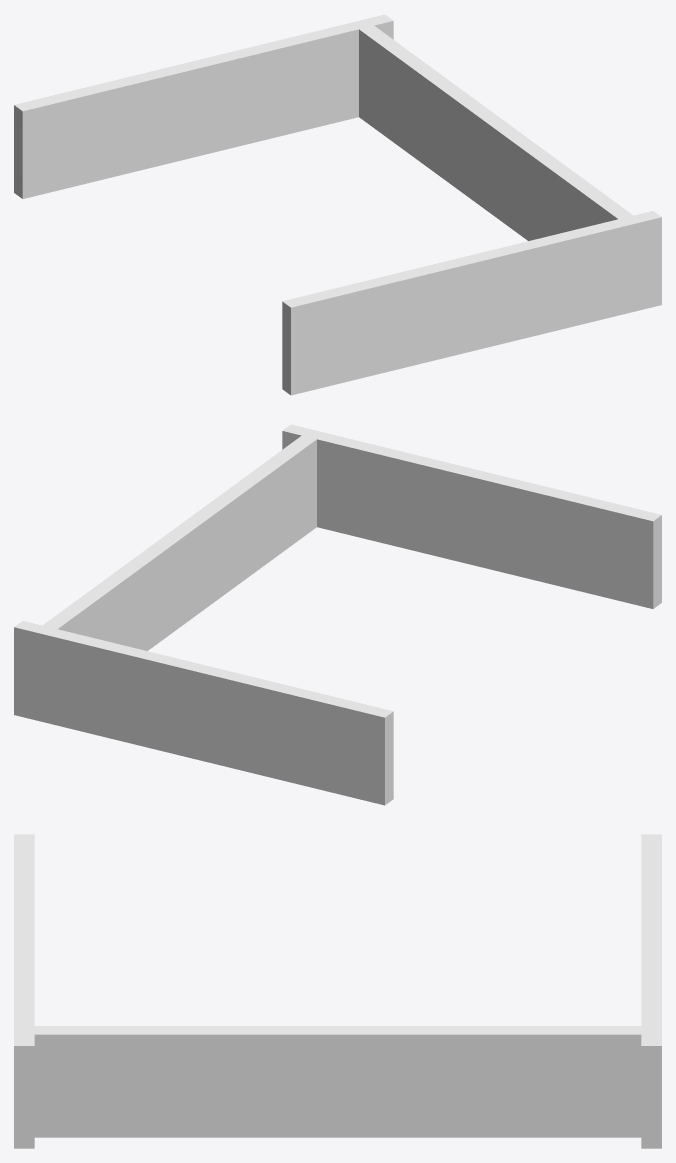
Rendered from btorlaplb_60cm.glb.
3 renders of one model, top to bottom at view 1: azimuth 30°, elevation 25°; view 2: azimuth 150°, elevation 25°; view 3: azimuth 270°, elevation 25°, orthographic. The views are drawn at different scales.
Visible parts, largest first — view 1: leg_standard; view 2: leg_standard; view 3: leg_standard.
Part boxes in pixels (box(x1,y1,x2,y2)): leg_standard: box(14, 14, 661, 395); leg_standard: box(14, 424, 661, 805); leg_standard: box(14, 834, 661, 1148).
Size of the model in its own units: 0.464 by 0.105 by 0.6.
1 material, 1 textured.
